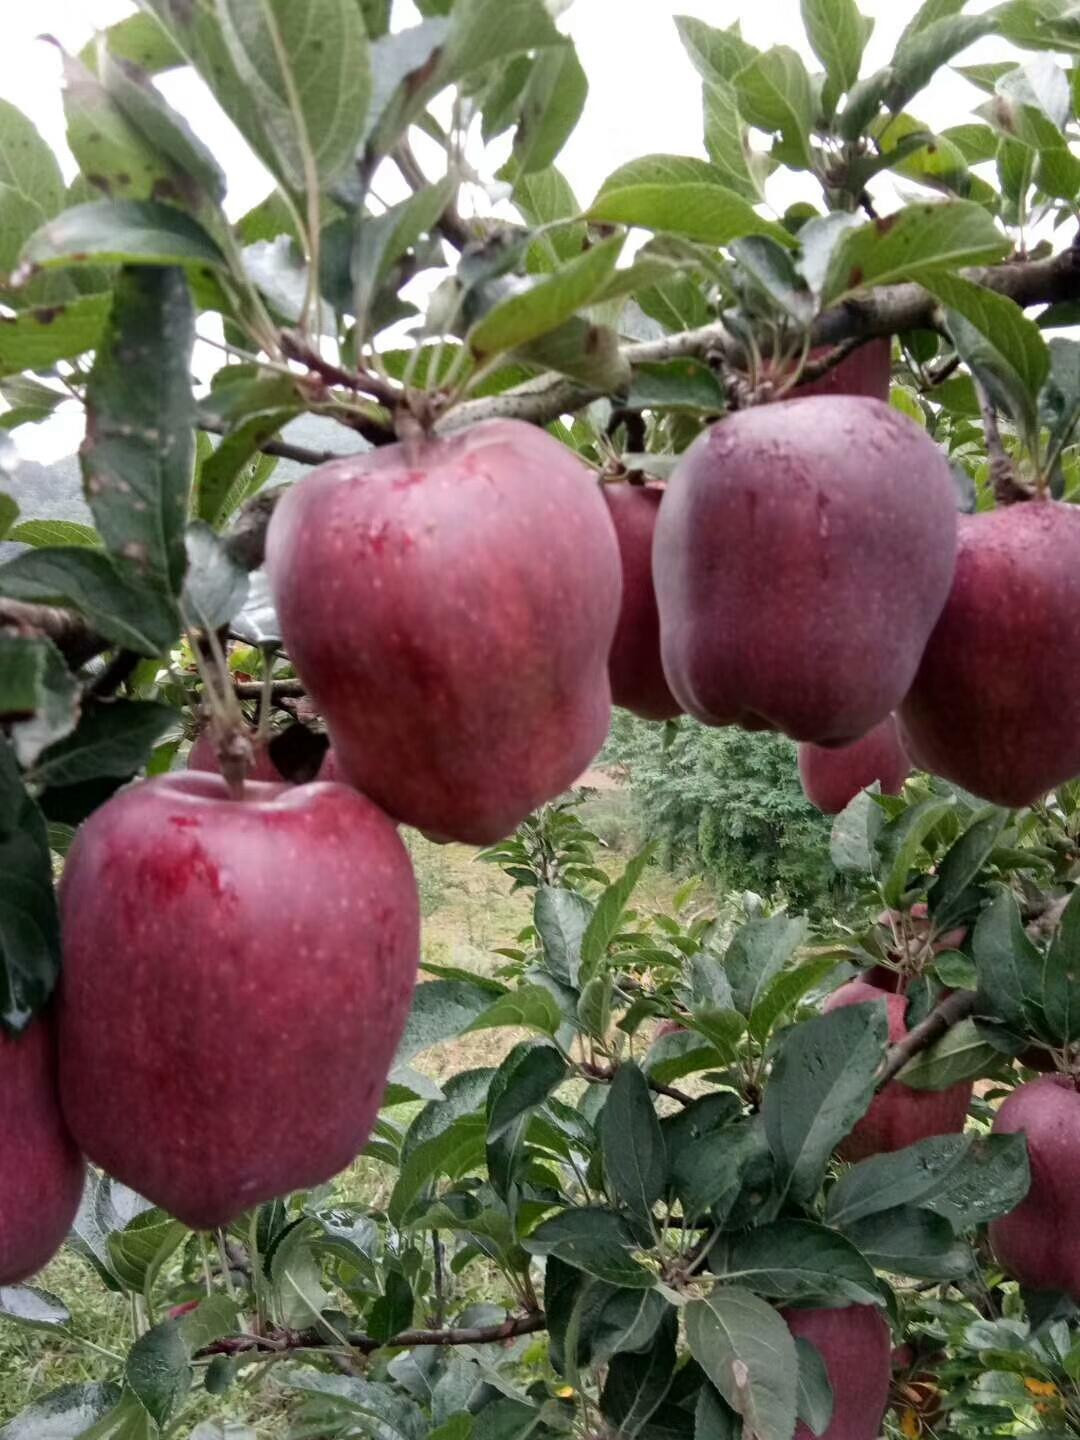apple: (48, 755, 423, 1225), (267, 407, 624, 844), (646, 387, 961, 765), (891, 498, 1079, 807)
